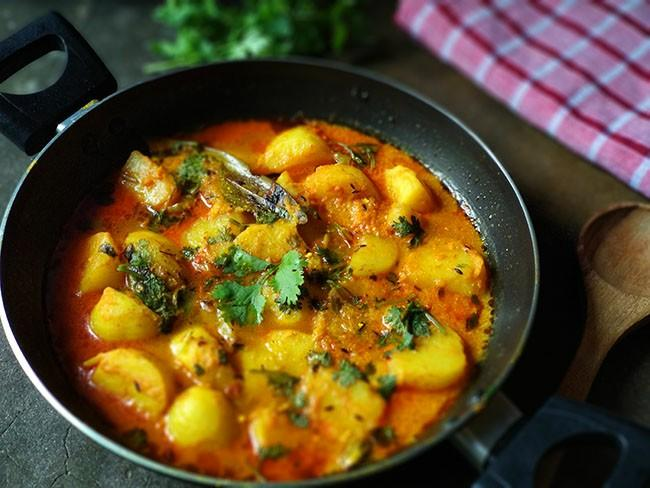DumAloo: (39, 111, 490, 485)
